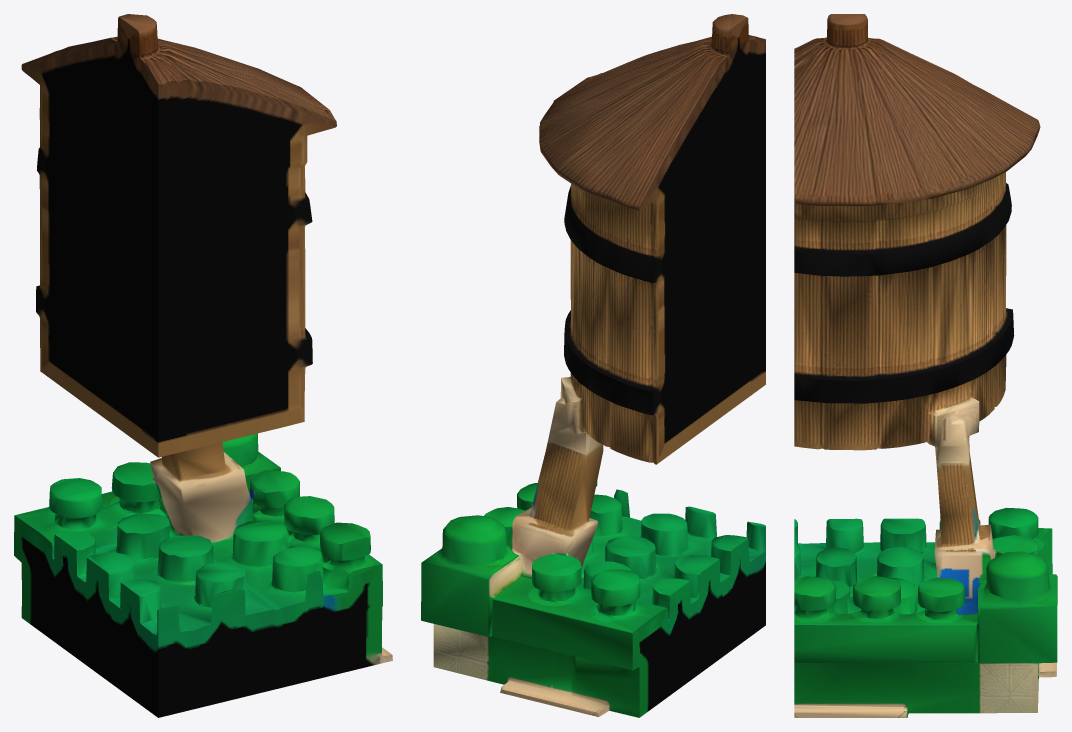
File: 16-topper-back-right.fbx
3 views of the same model, side by side, from view 1: azimuth 30°, elevation 25°; view 2: azimuth 150°, elevation 25°; view 3: azimuth 270°, elevation 25° (orthographic). The views are drawn at different scales.
Visible parts, largest first — view 1: topper-back-right; view 2: topper-back-right; view 3: topper-back-right.
Boxes of the visible parts, box(x1,y1,x2,y2) form: topper-back-right: box(14, 14, 392, 717); topper-back-right: box(421, 14, 765, 717); topper-back-right: box(794, 14, 1057, 717).
Size of the model in its own units: 3727 by 10211 by 4046.
1 material, 1 textured.
